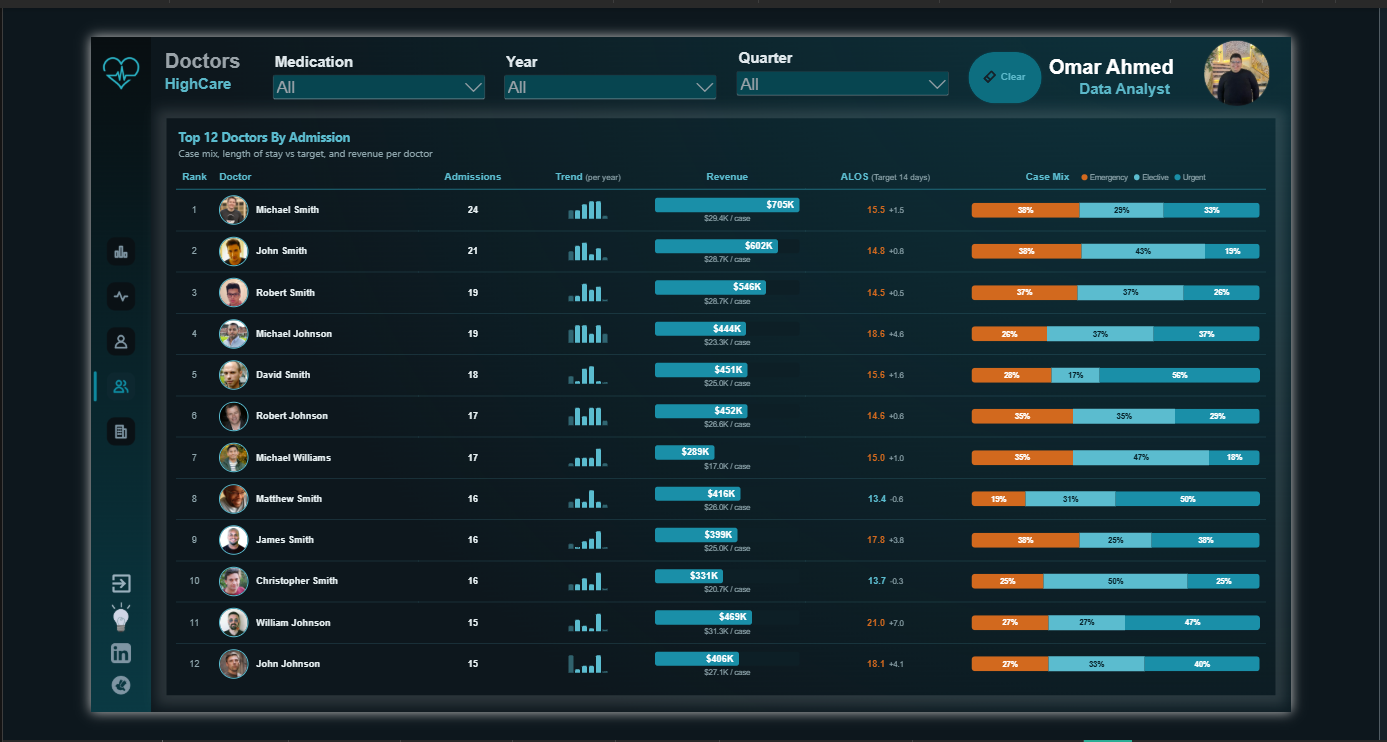

The page's visual inventory and layout, read from the dashboard file:
{"tool":"powerbi","page":{"name":"Doctors","canvas":[1920,1080],"ordinal":4},"visuals":[{"type":"textbox","title":"Page title","box":[118,20,152,41],"z":0},{"type":"textbox","title":"Subtitle","box":[118,58,167,41],"z":1000},{"type":"actionButton","title":"Go to Overview","box":[18,313,60,60],"z":2000},{"type":"actionButton","title":"Go to Hospitals","box":[18,385,60,60],"z":3000},{"type":"actionButton","title":"Go to Patients","box":[18,457,60,60],"z":4000},{"type":"actionButton","title":"Go to Doctors","box":[18,529,60,60],"z":5000},{"type":"actionButton","title":"Go to Insurance Companies","box":[18,601,60,60],"z":6000},{"type":"actionButton","title":"LinkedIn","box":[32,970,32,32],"z":7000},{"type":"actionButton","title":"Website","box":[32,1021,32,32],"z":8000},{"type":"image","title":"Logo","box":[14,26,68,64],"z":9000},{"type":"group","id":"g1","title":"Group 1","box":[1526,6,394,104],"z":10000},{"type":"htmlContent443BE3AD55E043BF878BED274D3A6855","fields":{"content":["Dax_Measures.Html_Doctors_Table"]},"box":[120,130,1776,924],"z":11000},{"type":"actionButton","box":[1400,20,125,90],"z":16001},{"type":"slicer","fields":{"Values":["Dim_Medications.Medication"]},"box":[285,25,350,87.5],"z":16002},{"type":"slicer","fields":{"Values":["Dim_Date.Year"]},"box":[656.7,25,350,90],"z":16003},{"type":"slicer","fields":{"Values":["Dim_Date.Quarter"]},"box":[1028.3,20,350,90],"z":16004},{"type":"image","box":[10,837.5,77.5,72.5],"z":16005},{"type":"image","box":[18.1,892.2,59.7,72.4],"z":16006},{"type":"image","box":[1746,6,174,104],"z":20000,"group":"g1"},{"type":"textbox","box":[1526,30,206.5,78.1],"z":21000,"group":"g1"}]}

Visuals, with their boxes on the page's 1920x1080 design canvas (x1, y1, x2, y2). These are canvas units, not pixel positions in the 1387x742 screenshot, which may show the page scaled, cropped or inside an application window:
"Page title" textbox: pyautogui.locateOnScreen(118, 20, 270, 61)
"Subtitle" textbox: pyautogui.locateOnScreen(118, 58, 285, 99)
"Go to Overview" actionButton: pyautogui.locateOnScreen(18, 313, 78, 373)
"Go to Hospitals" actionButton: pyautogui.locateOnScreen(18, 385, 78, 445)
"Go to Patients" actionButton: pyautogui.locateOnScreen(18, 457, 78, 517)
"Go to Doctors" actionButton: pyautogui.locateOnScreen(18, 529, 78, 589)
"Go to Insurance Companies" actionButton: pyautogui.locateOnScreen(18, 601, 78, 661)
"LinkedIn" actionButton: pyautogui.locateOnScreen(32, 970, 64, 1002)
"Website" actionButton: pyautogui.locateOnScreen(32, 1021, 64, 1053)
"Logo" image: pyautogui.locateOnScreen(14, 26, 82, 90)
"Group 1" group: pyautogui.locateOnScreen(1526, 6, 1920, 110)
htmlContent443BE3AD55E043BF878BED274D3A6855 - Dax_Measures.Html_Doctors_Table: pyautogui.locateOnScreen(120, 130, 1896, 1054)
actionButton: pyautogui.locateOnScreen(1400, 20, 1525, 110)
slicer - Dim_Medications.Medication: pyautogui.locateOnScreen(285, 25, 635, 112)
slicer - Dim_Date.Year: pyautogui.locateOnScreen(657, 25, 1007, 115)
slicer - Dim_Date.Quarter: pyautogui.locateOnScreen(1028, 20, 1378, 110)
image: pyautogui.locateOnScreen(10, 838, 88, 910)
image: pyautogui.locateOnScreen(18, 892, 78, 965)
image: pyautogui.locateOnScreen(1746, 6, 1920, 110)
textbox: pyautogui.locateOnScreen(1526, 30, 1732, 108)
